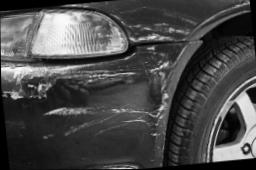Bumper: (1, 49, 198, 164)
